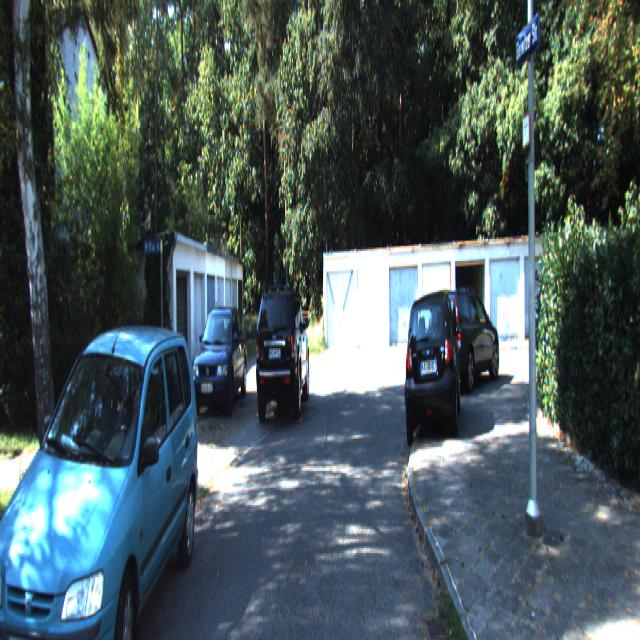Car: (0, 319, 203, 638), (405, 285, 459, 440), (427, 279, 499, 393), (253, 284, 309, 417), (190, 307, 246, 418)
